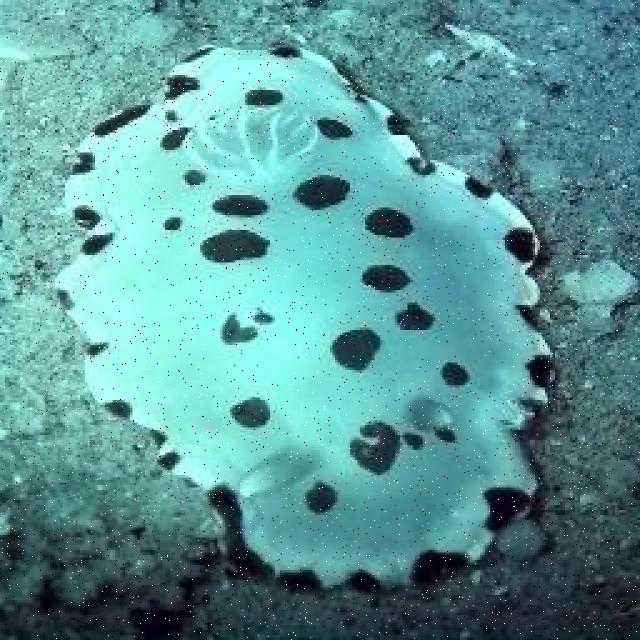reefs: (54, 42, 562, 593)
